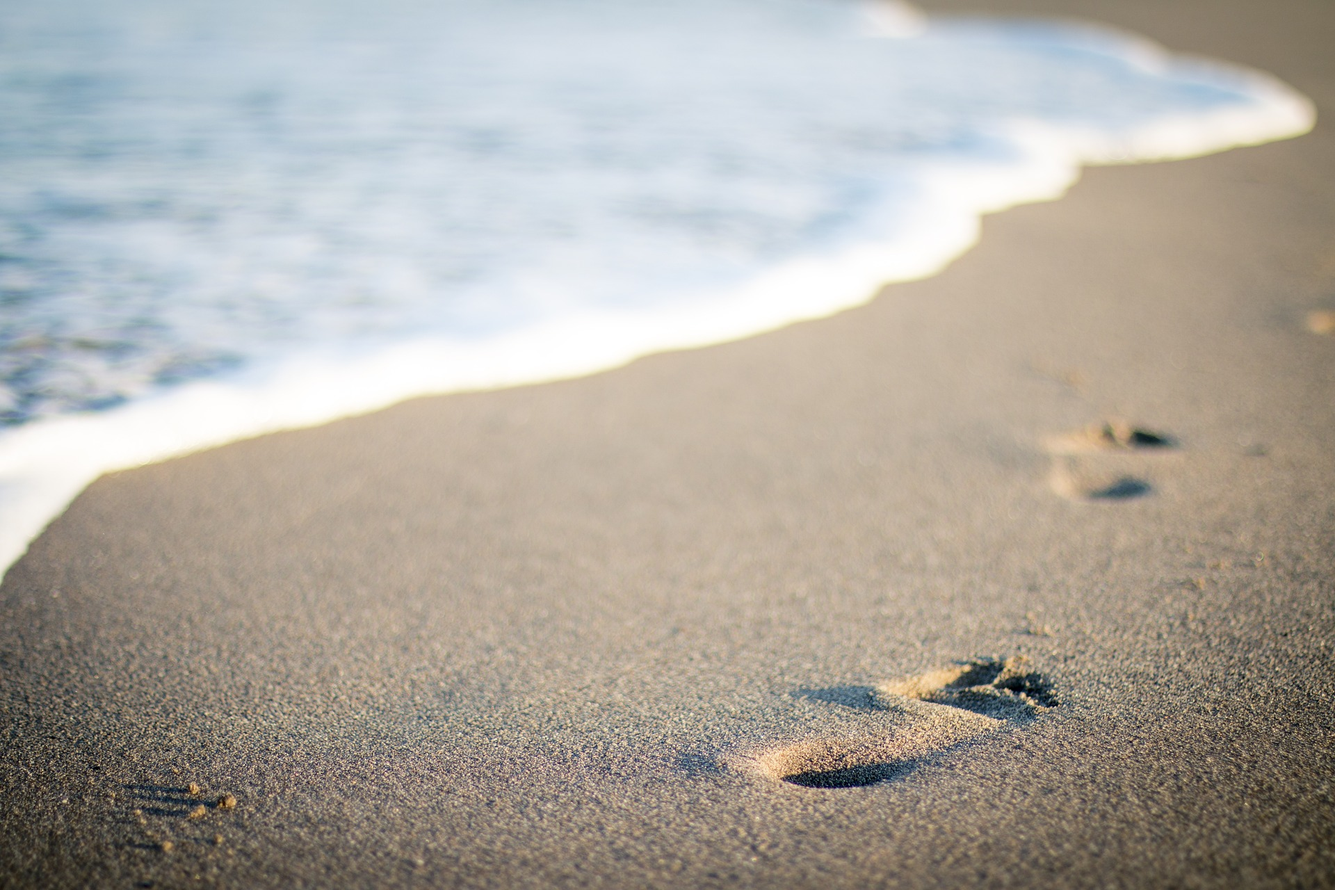human_foot_print: (729, 658, 1058, 788), (1042, 420, 1179, 501)
